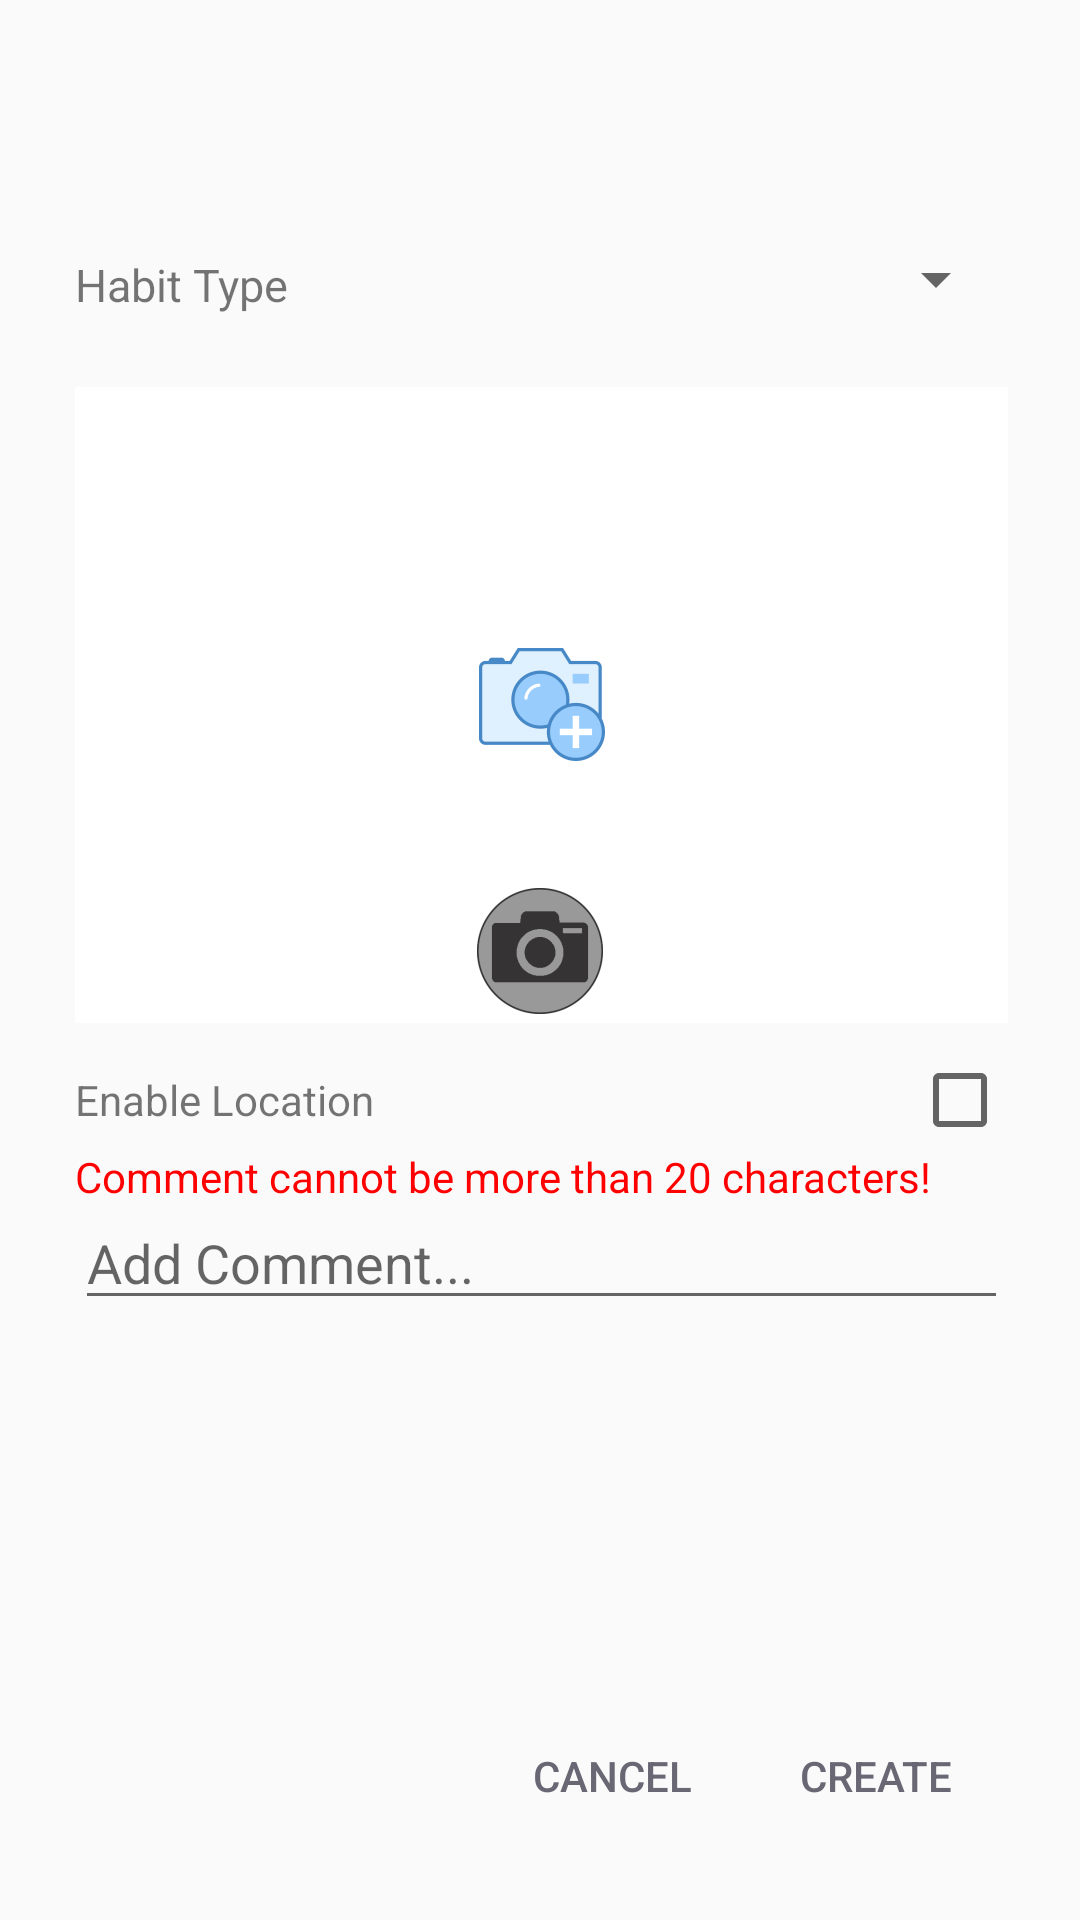

Screen size 1080w x 1920h. Icon name, then its center in pixels as point (x, y):
capture: point (540, 951)
